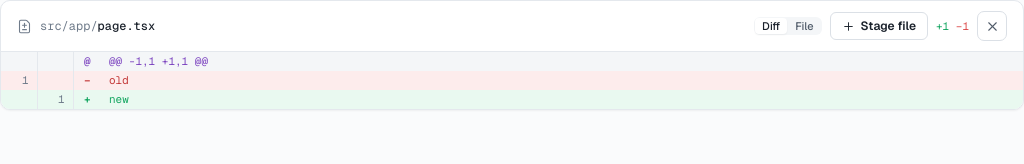
it: SessionViewer staging › reports a refused write in place and tells its host nothing
Step 1. Click the button "Stage file" → [879, 26], box [830,12,928,40]
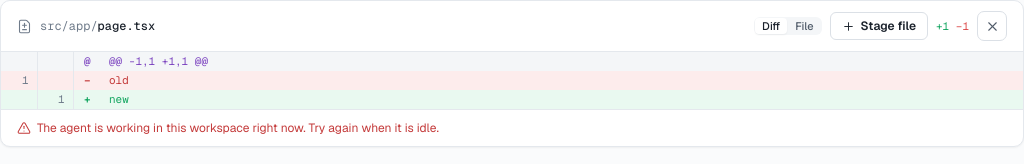
expect the text "working in this workspace right now" is shown: met, box [37,120,439,136]
